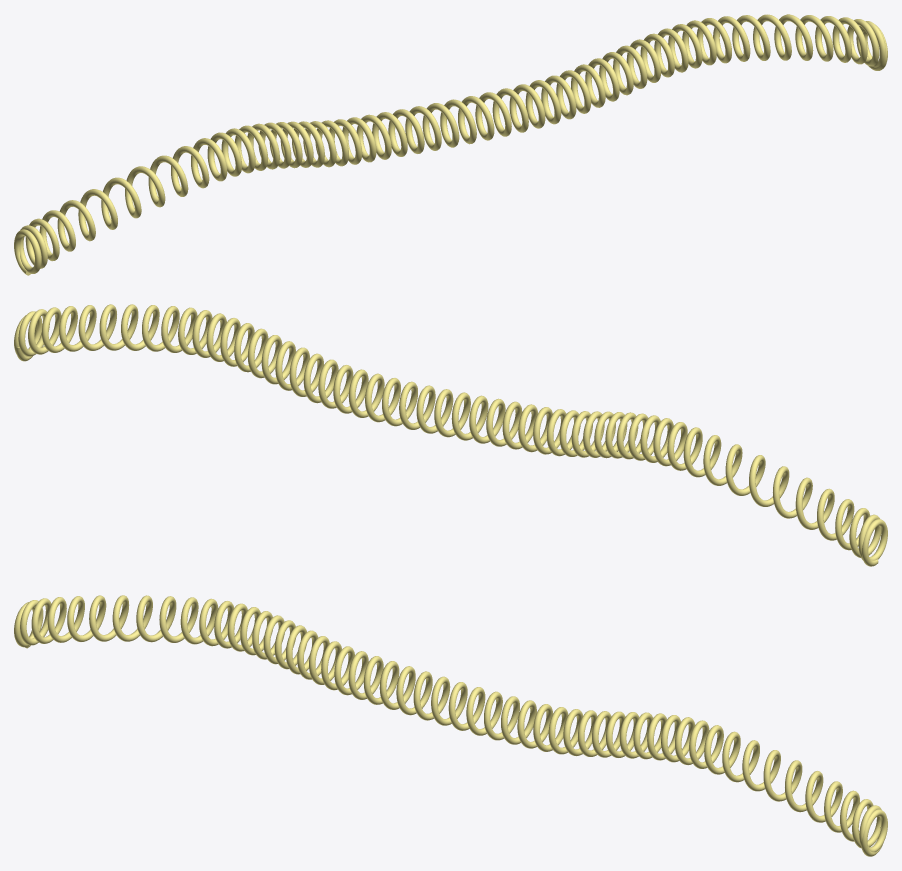
Rendered from denkyu_Helix.fbx.
3 views of the same model, one above another, from view 1: azimuth 30°, elevation 25°; view 2: azimuth 150°, elevation 25°; view 3: azimuth 330°, elevation 25° (orthographic).
Parts seen in each view (by area): view 1: Helix; view 2: Helix; view 3: Helix.
Boxes of the visible parts, x1,y1,x2,y2 form: Helix: (14,14,887,275); Helix: (14,304,887,566); Helix: (14,595,887,856).
Size of the model in its own units: 13.43 by 1.42 by 0.6477.
